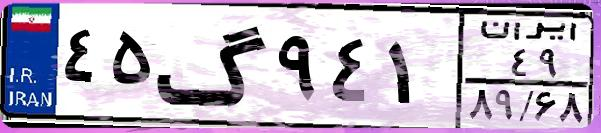1: (385, 28, 445, 110)
4: (330, 28, 385, 110), (57, 26, 110, 100), (508, 27, 537, 80)
5: (110, 28, 156, 98)
6: (535, 70, 560, 125)
8: (560, 70, 590, 125), (470, 70, 495, 125)
9: (270, 28, 330, 110), (537, 27, 568, 80), (495, 70, 520, 125)
گ: (156, 12, 270, 120)
